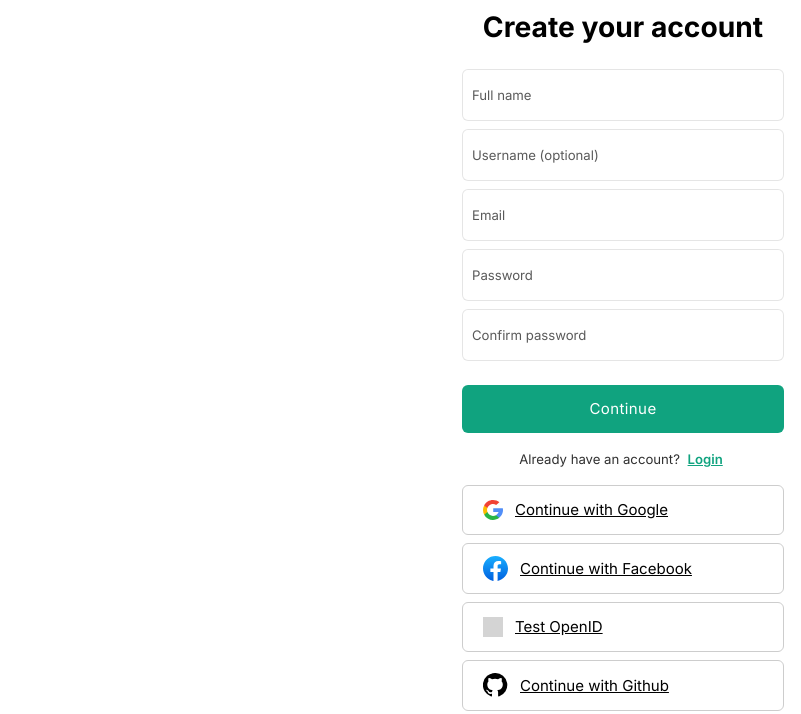
Test: shows error message when registration fails
The image size is (801, 714).
Type "John Doe" into the field labelled "Full name". click: coordinates (623, 95)
box: [462, 69, 784, 121]
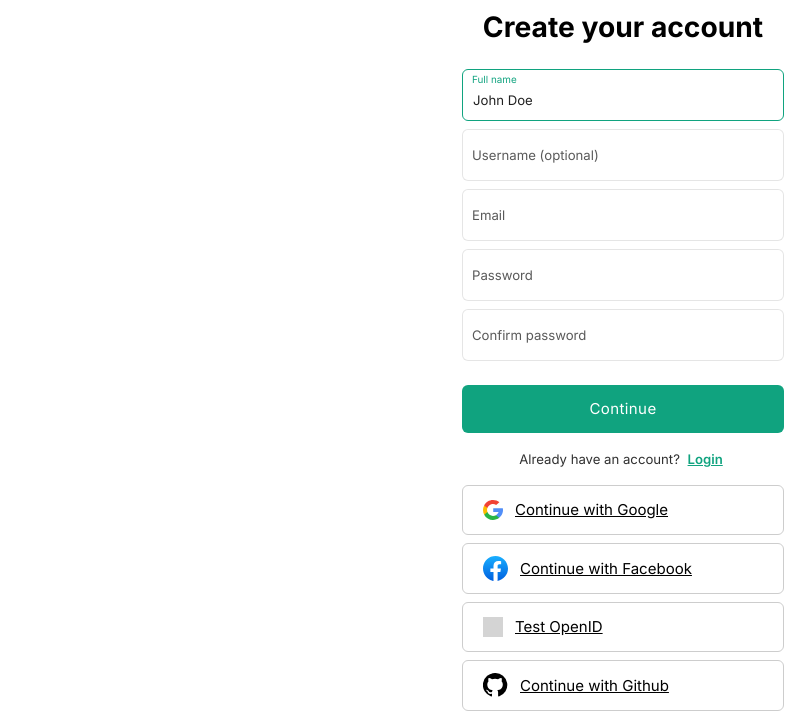
Type "johndoe" into the field labelled "Username (optional)". click: coordinates (623, 155)
box: [462, 129, 784, 181]
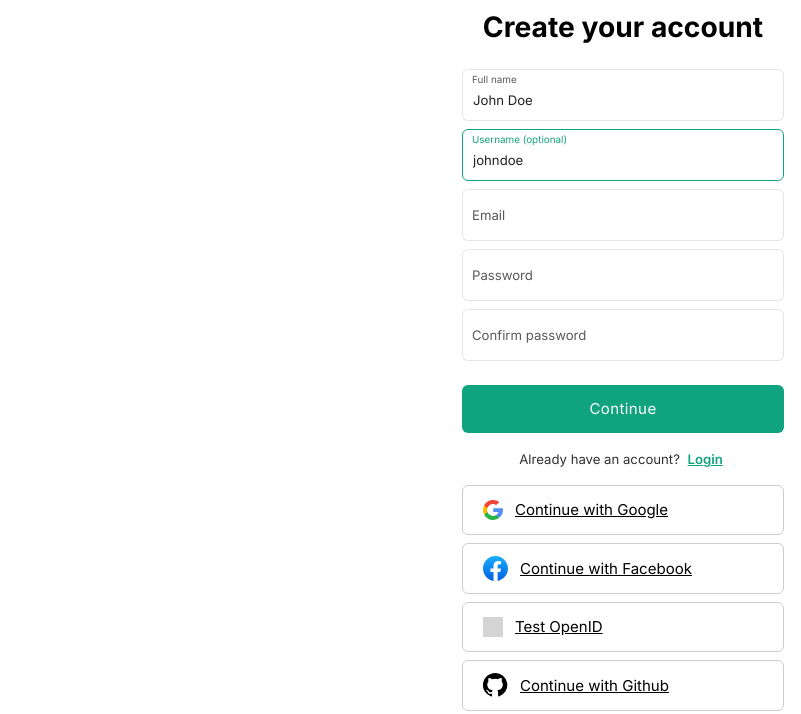
Type "test@test.com" into the field labelled "Email". click: coordinates (623, 215)
box: [462, 189, 784, 241]
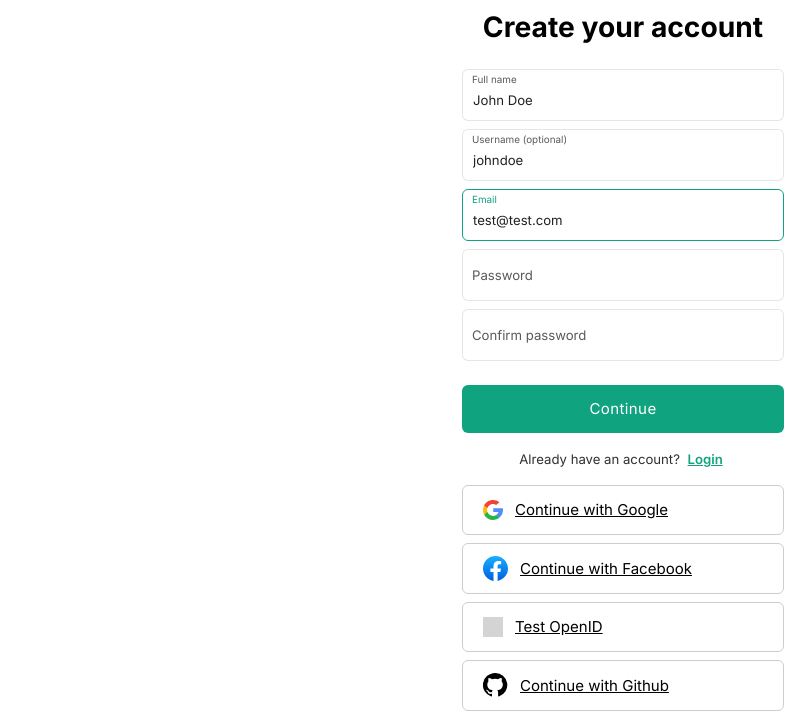
Type "password" into the password field with test id "password". click: coordinates (623, 275)
box: [462, 249, 784, 301]
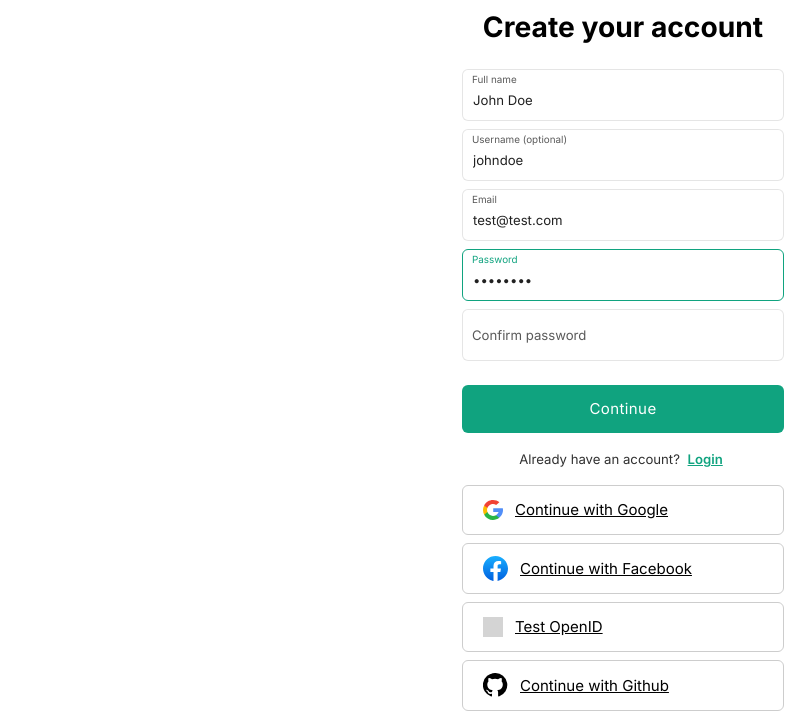
Type "password" into the password field with test id "confirm_password". click: coordinates (623, 335)
box: [462, 309, 784, 361]
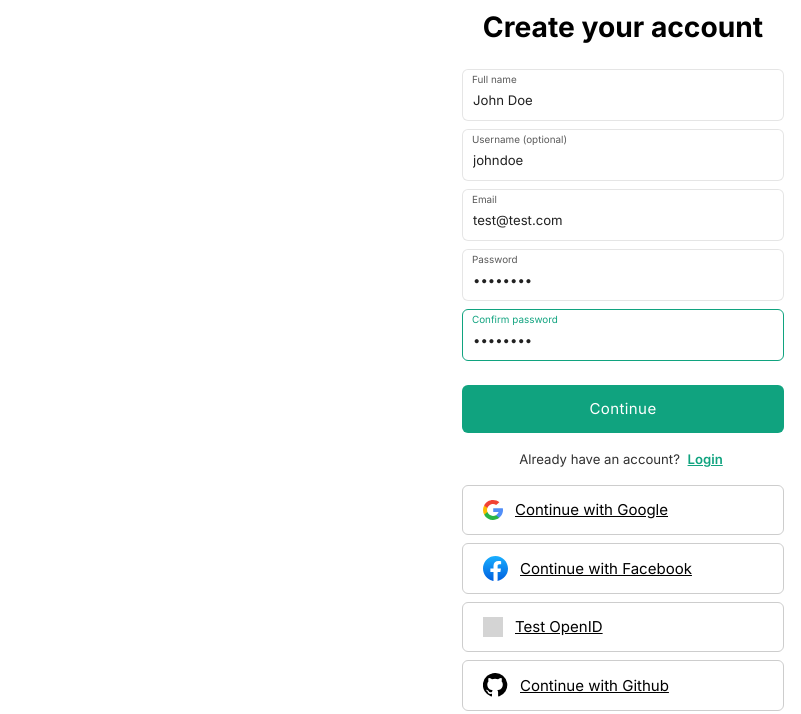
Click the button named "Submit registration". click: coordinates (623, 409)
box: [462, 385, 784, 433]
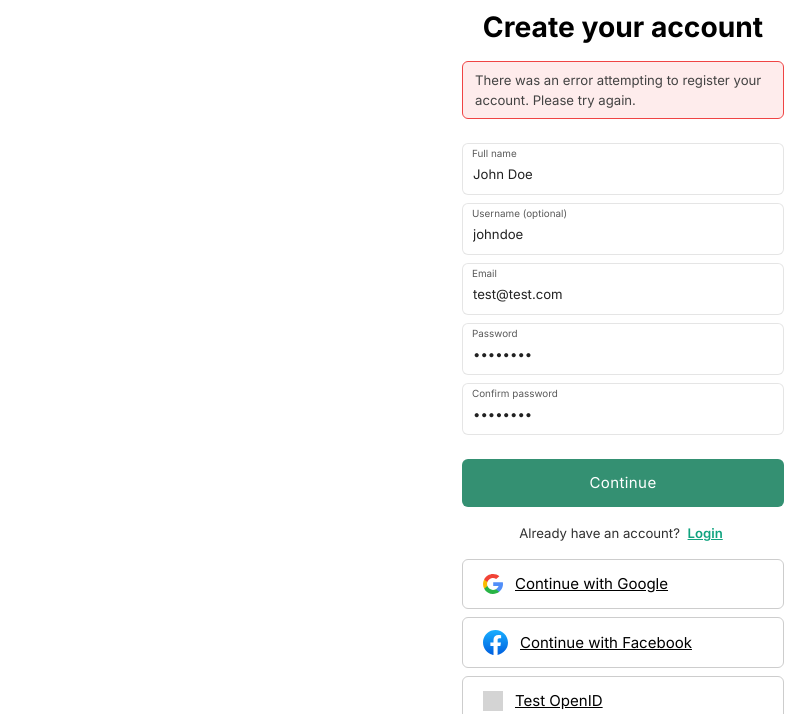
Check: the message "There was an error attempting to register your account. Please try again." is shown, box [462, 61, 784, 119]
